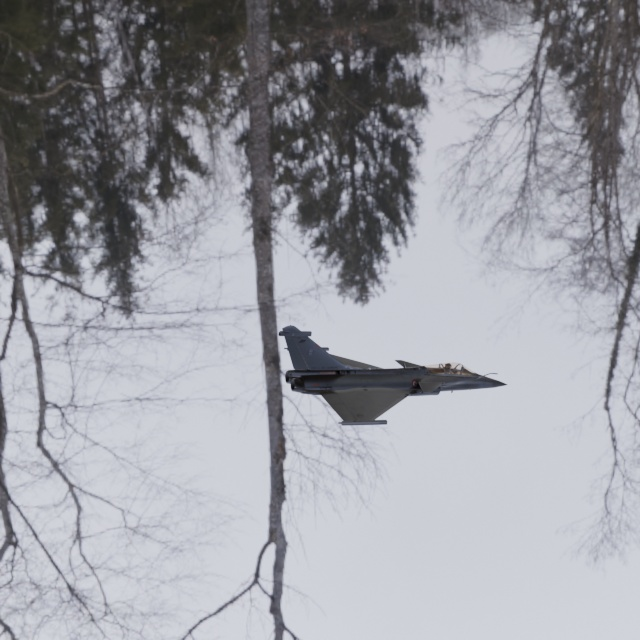dassault_rafale: (246, 291, 559, 434)
